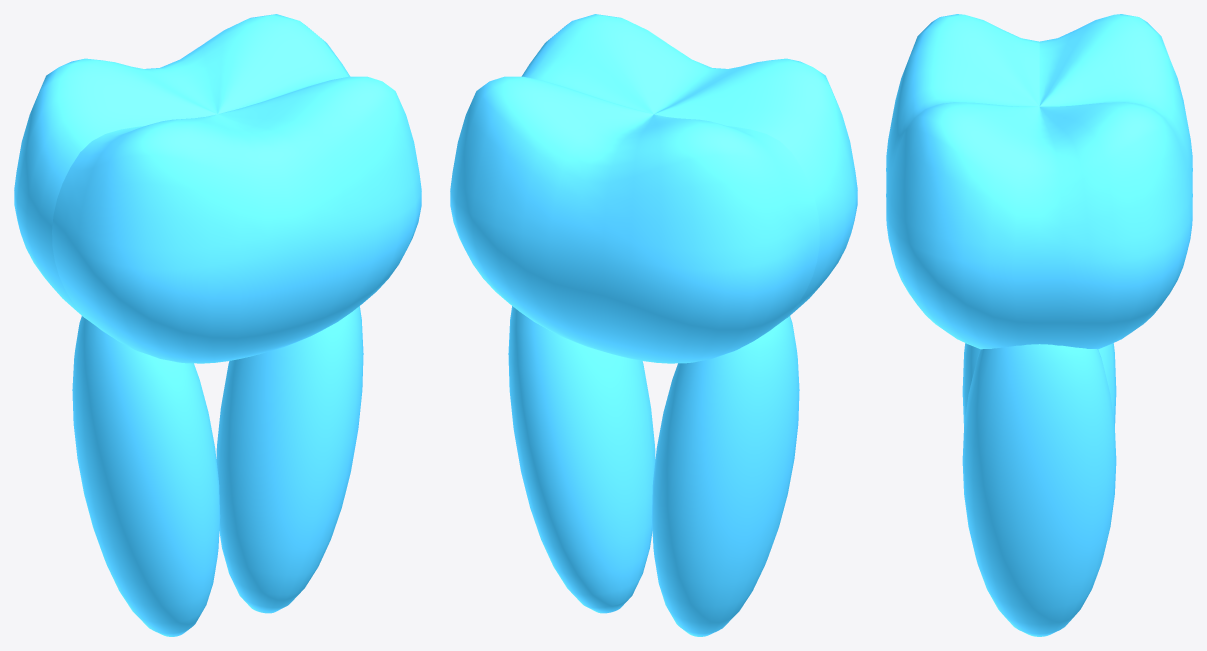
Rendered from dental.glb.
The picture shows the model from 3 angles, left to right: view 1: azimuth 30°, elevation 25°; view 2: azimuth 150°, elevation 25°; view 3: azimuth 270°, elevation 25°; orthographic projection.
Parts seen in each view (by area): view 1: crown, root_left, root_right; view 2: crown, root_left, root_right; view 3: crown, root_right, root_left.
Part boxes in pixels (bbox=[...]): crown: bbox=[14, 14, 421, 363]; root_left: bbox=[72, 316, 220, 636]; root_right: bbox=[216, 306, 363, 613]; crown: bbox=[450, 14, 857, 363]; root_left: bbox=[651, 316, 799, 636]; root_right: bbox=[508, 306, 655, 613]; crown: bbox=[886, 14, 1192, 349]; root_right: bbox=[962, 344, 1116, 636]; root_left: bbox=[962, 343, 1116, 426].
Bounding box in the file's own units: 1.44 × 2.27 × 1.16.
